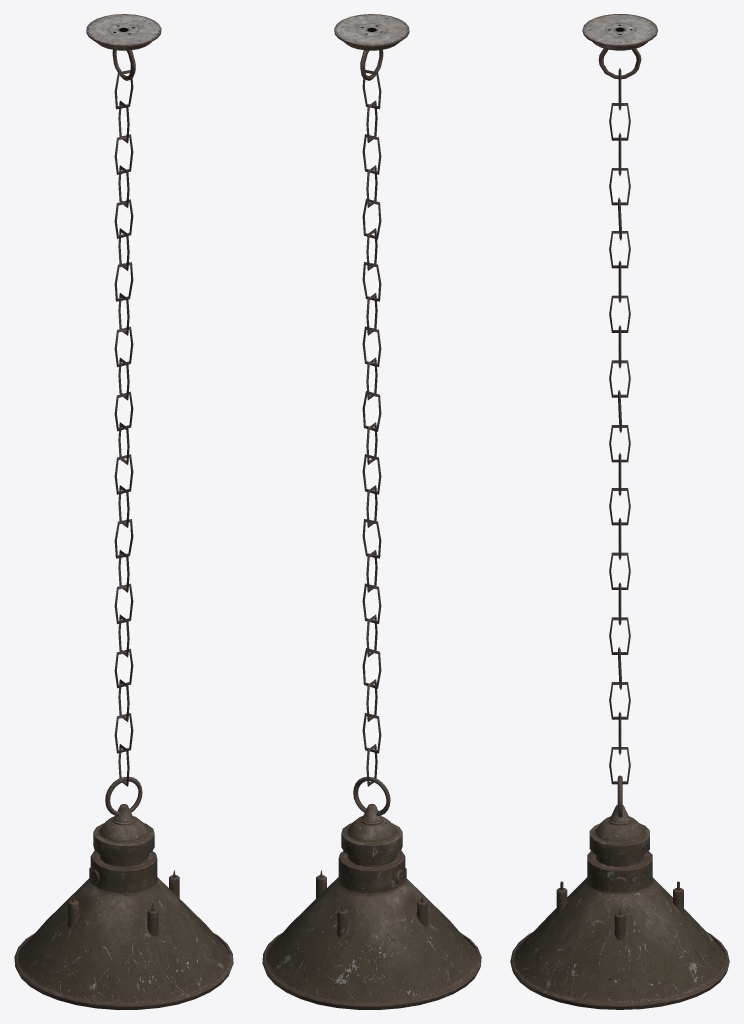
The model's file is Hang_Light.fbx.
3 renders of one model, left to right at view 1: azimuth 30°, elevation 25°; view 2: azimuth 150°, elevation 25°; view 3: azimuth 270°, elevation 25°, orthographic.
Visible parts, largest first — view 1: Light_Body3; view 2: Light_Body3; view 3: Light_Body3.
Part boxes in pixels (<box>): Light_Body3: <box>14,14,233,1009</box>; Light_Body3: <box>262,14,481,1009</box>; Light_Body3: <box>510,14,729,1009</box>.
Size of the model in its own units: 117 by 555 by 117.
Materials: 1 (1 with a texture image).
